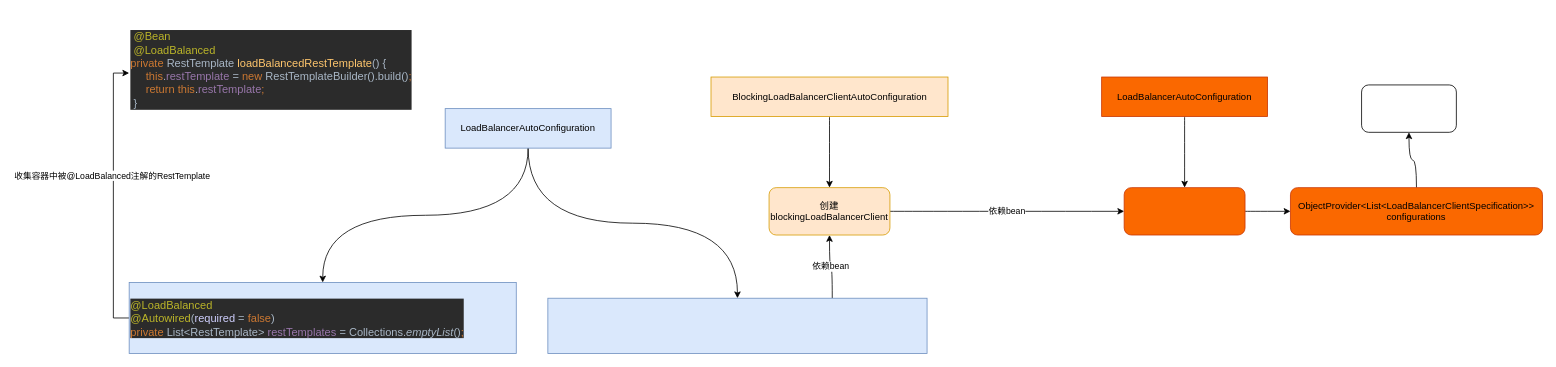
Some shapes in this 1556 by 367 pixel diagram are drawn without their labels. The centre of each missing label's shape, as x and y in pixels:
"loadBalancerClientFactory" belongs at [1184,211].
"new LoadBalancerRequestFactory(loadBalancerClient , this . transformers )" belongs at [737,325].
"从容器收集被 @LoadBalancerClients注解的类" belongs at [1408,108].
